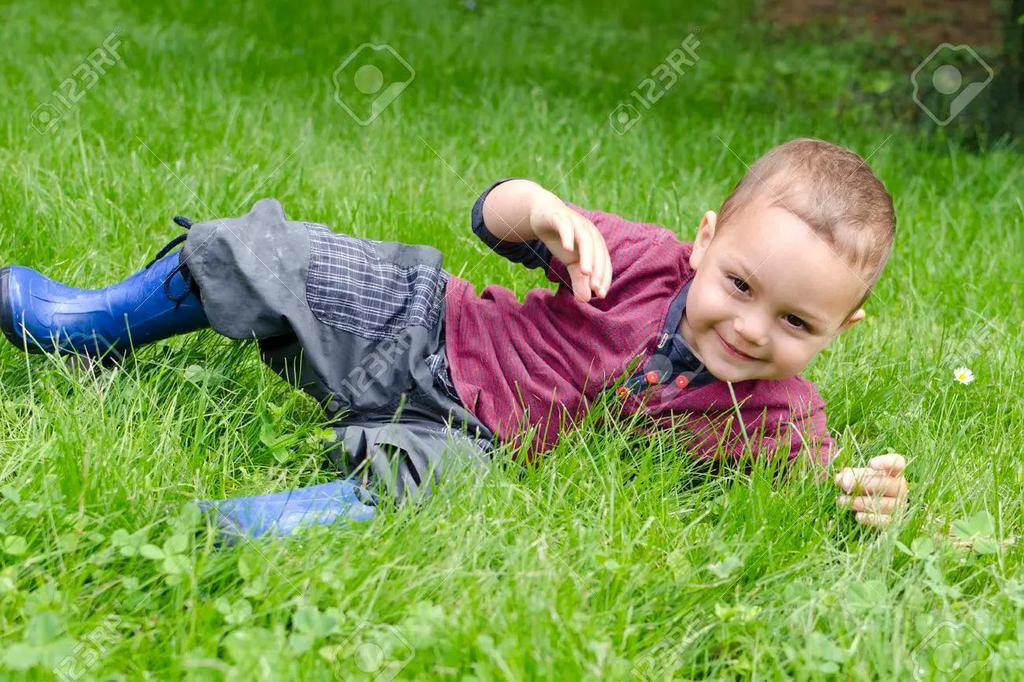child: (4, 103, 963, 574)
